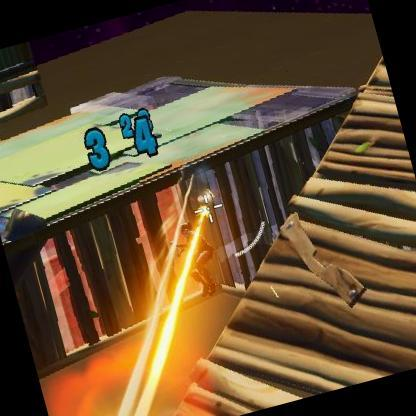person: (174, 223, 215, 276)
